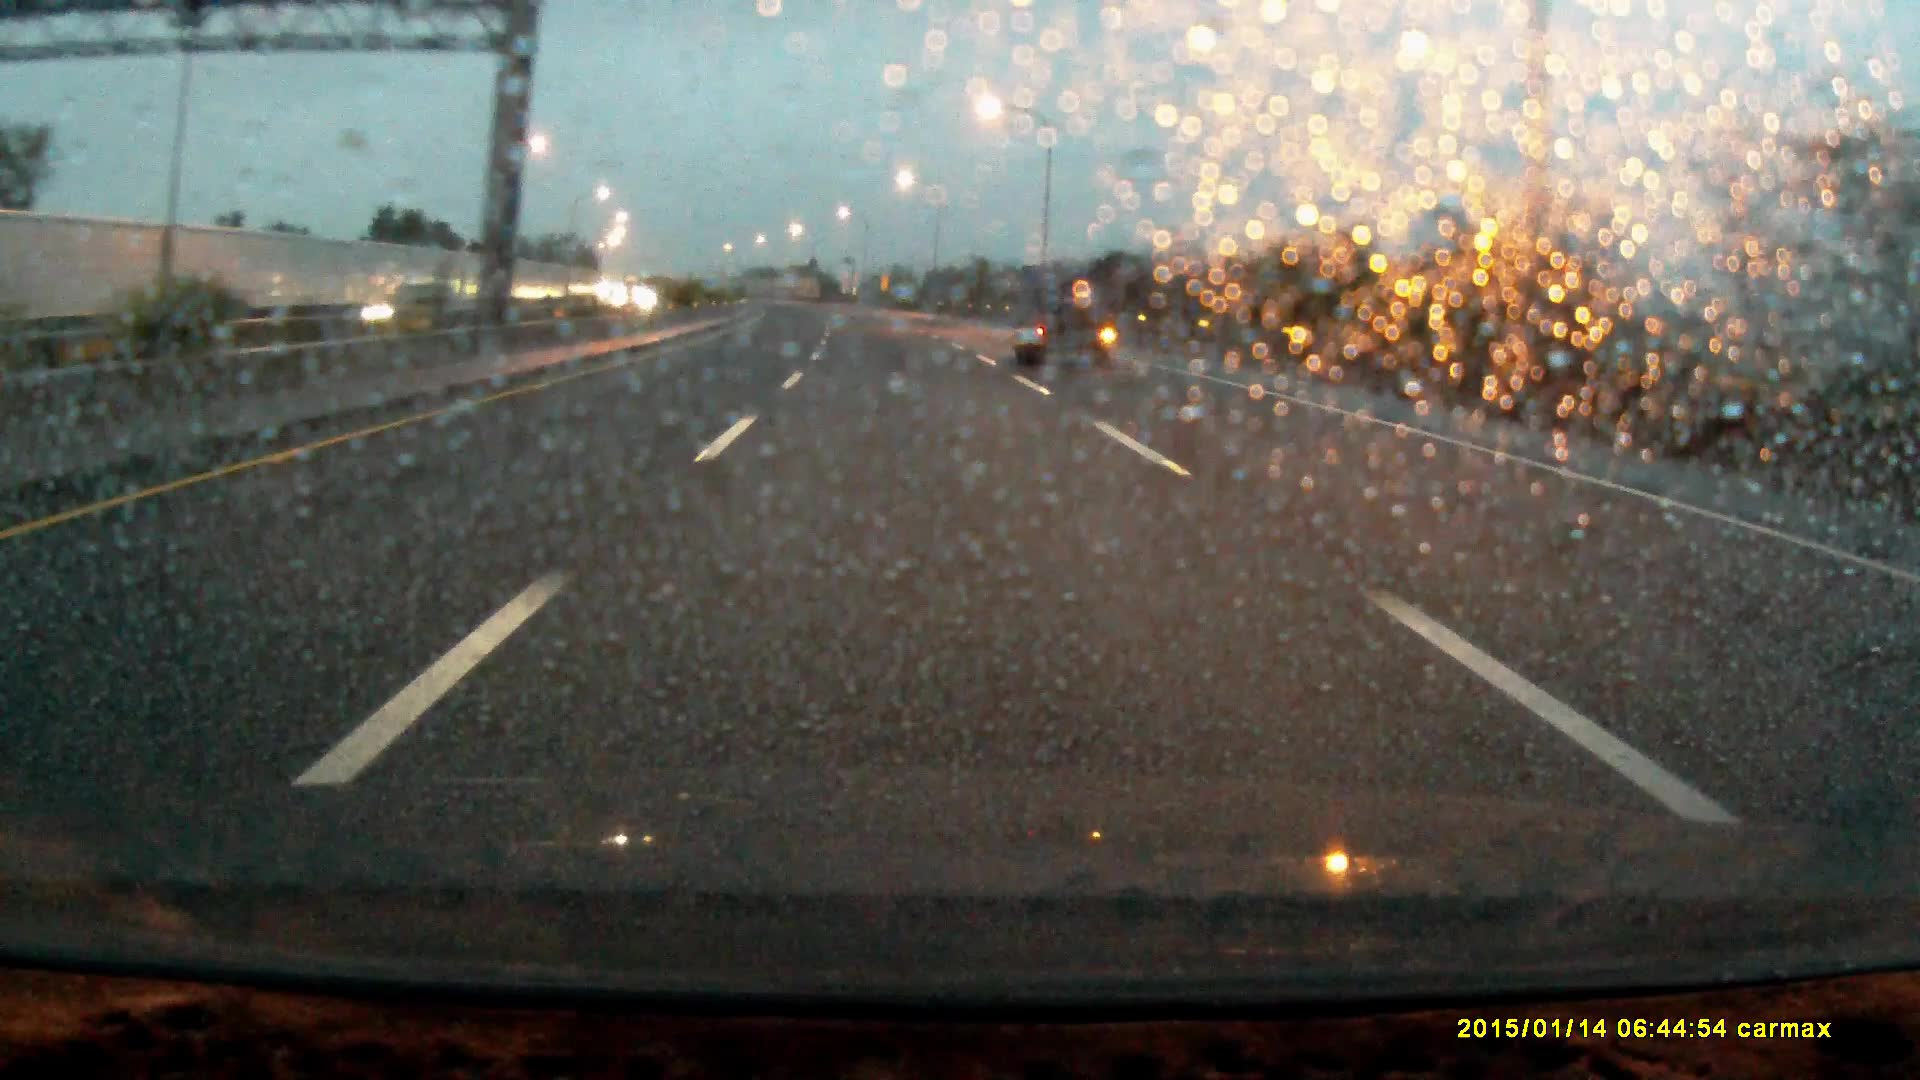vehicle: (1011, 276, 1110, 372), (338, 281, 448, 334), (605, 284, 669, 315)
